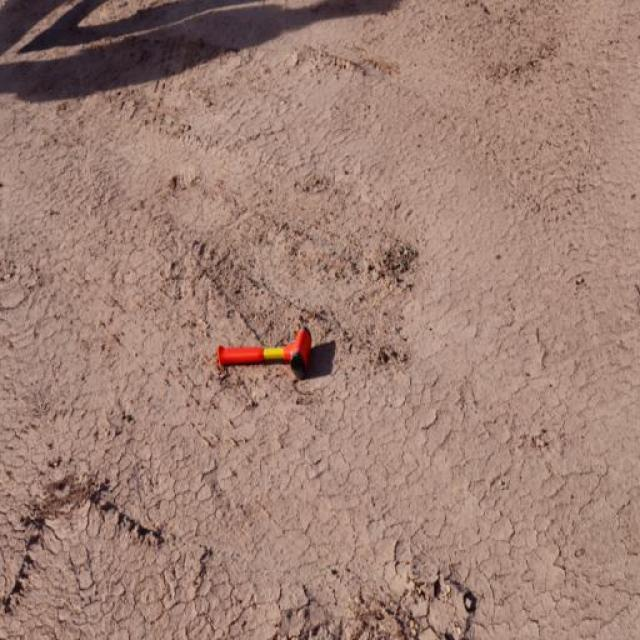mallet: (215, 325, 313, 375)
